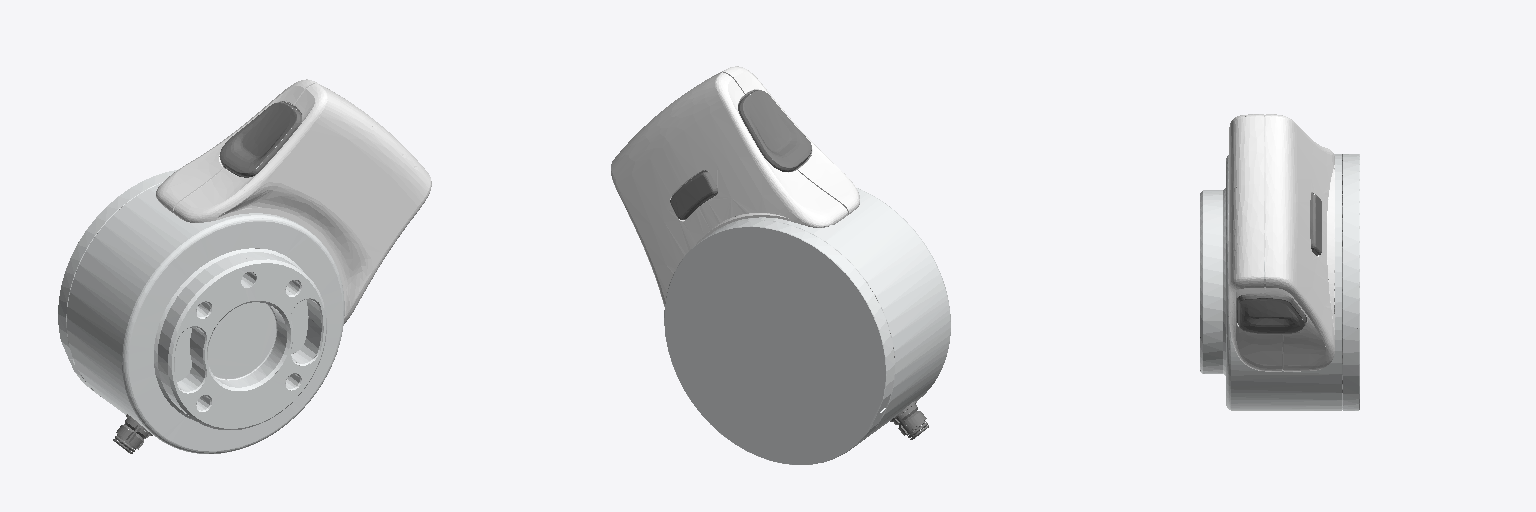
3 renders of one model, left to right at view 1: azimuth 30°, elevation 25°; view 2: azimuth 150°, elevation 25°; view 3: azimuth 270°, elevation 25°, orthographic.
Parts seen in each view (by area): view 1: node7; view 2: node7; view 3: node7.
Boxes of the visible parts, box(x1,y1,x2,y2) form: node7: box(58, 79, 431, 453); node7: box(611, 66, 950, 464); node7: box(1200, 114, 1359, 410).
Size of the model in its own units: 0.1253 by 0.1253 by 0.0548.
Materials: 8 (1 with a texture image).